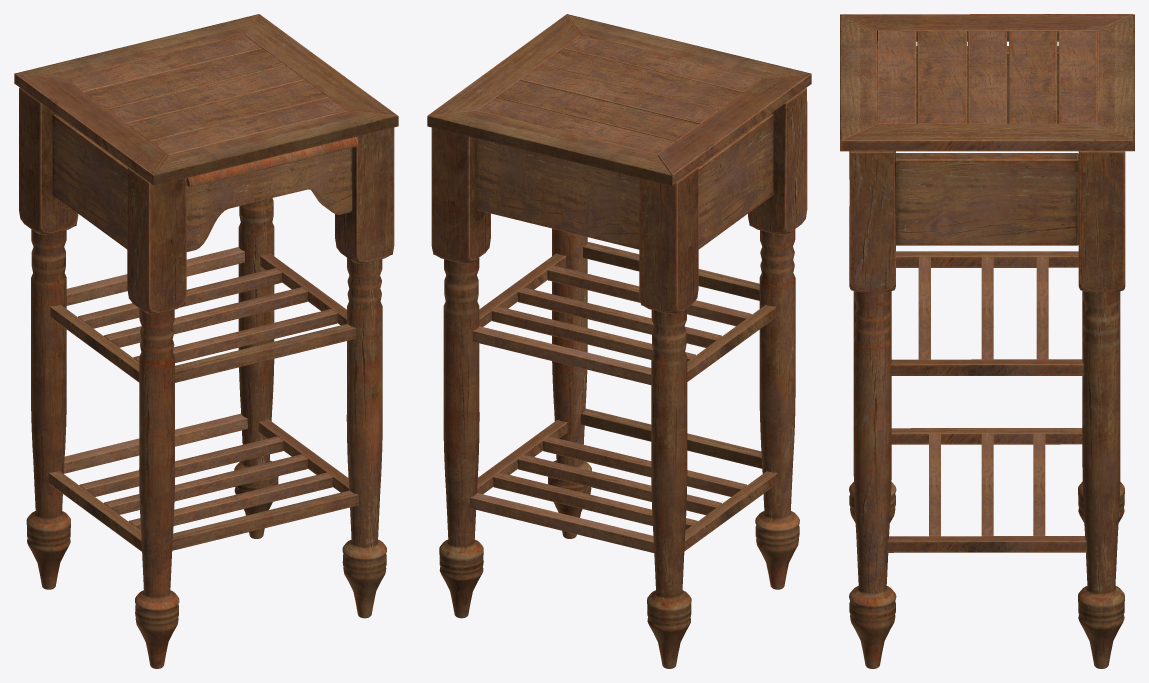
The model's file is Bedside Table 2.fbx.
3 renders of one model, left to right at view 1: azimuth 30°, elevation 25°; view 2: azimuth 150°, elevation 25°; view 3: azimuth 270°, elevation 25°, orthographic. The views are drawn at different scales.
Parts seen in each view (by area): view 1: Utilitarian Wooden Bedside Washstand.001; view 2: Utilitarian Wooden Bedside Washstand.001; view 3: Utilitarian Wooden Bedside Washstand.001.
Boxes of the visible parts, x1=… form: Utilitarian Wooden Bedside Washstand.001: x1=14, y1=14, x2=398, y2=668; Utilitarian Wooden Bedside Washstand.001: x1=427, y1=14, x2=811, y2=668; Utilitarian Wooden Bedside Washstand.001: x1=840, y1=14, x2=1134, y2=668.
Size of the model in its own units: 36.07 by 71.07 by 35.44.
Materials: 1 (1 with a texture image).
